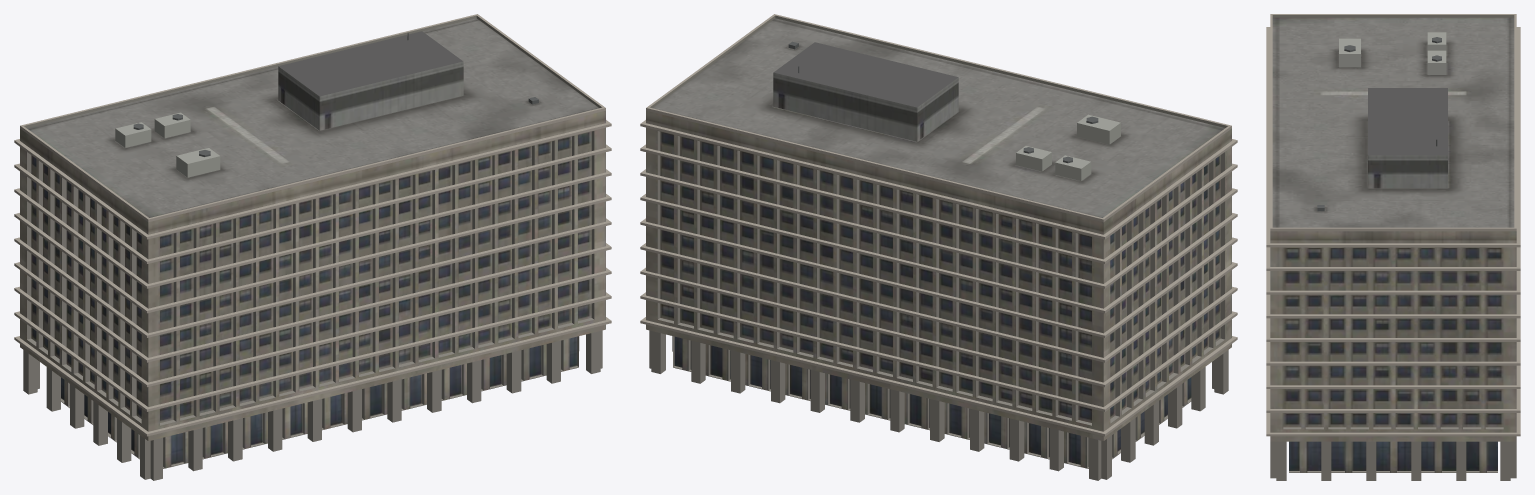
The model's file is dc_brutal_a.glb.
3 views of the same model, side by side, from view 1: azimuth 30°, elevation 25°; view 2: azimuth 150°, elevation 25°; view 3: azimuth 270°, elevation 25° (orthographic). The views are drawn at different scales.
Visible parts, largest first — view 1: dc_brutal_a; view 2: dc_brutal_a; view 3: dc_brutal_a.
Part boxes in pixels (x1,y1,x2,y2): dc_brutal_a: (14,14,611,480); dc_brutal_a: (640,14,1237,480); dc_brutal_a: (1266,14,1520,480).
Size of the model in its own units: 71.1 by 44 by 35.1.
Materials: 1 (1 with a texture image).
